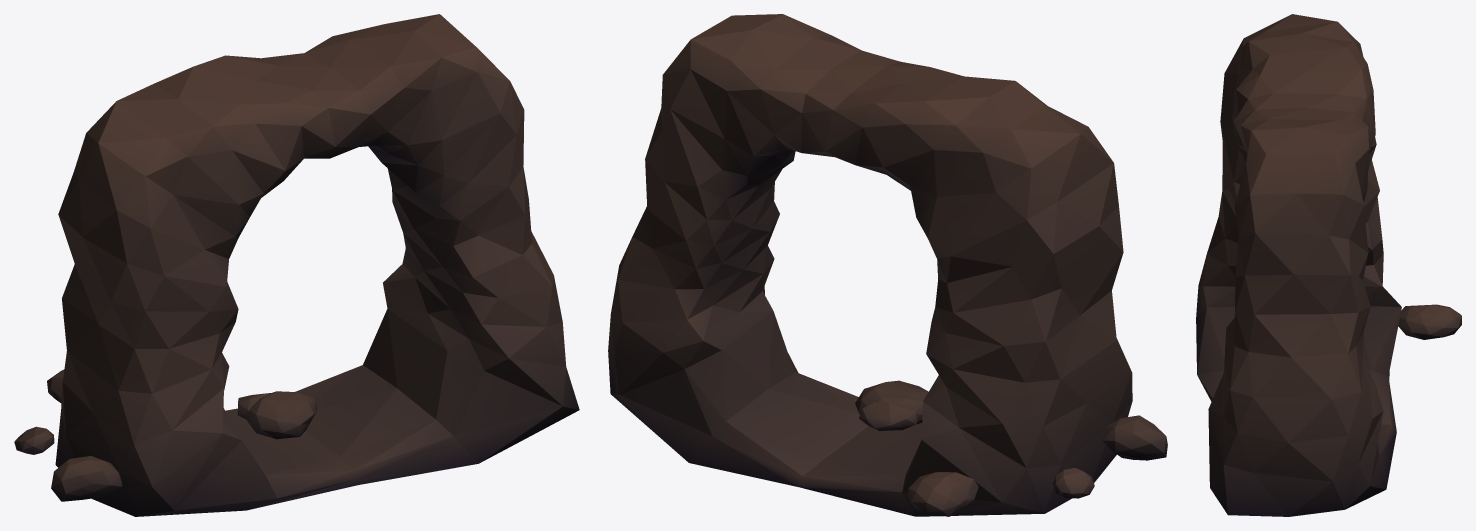
The model's file is arch.lod0.glb.
3 renders of one model, left to right at view 1: azimuth 30°, elevation 25°; view 2: azimuth 150°, elevation 25°; view 3: azimuth 270°, elevation 25°, orthographic. The views are drawn at different scales.
Parts seen in each view (by area): view 1: arch_s1_lod0; view 2: arch_s1_lod0; view 3: arch_s1_lod0.
Boxes of the visible parts, x1,y1,x2,y2 form: arch_s1_lod0: (14,14,579,516); arch_s1_lod0: (608,14,1167,516); arch_s1_lod0: (1196,14,1461,516).
Bounding box in the file's own units: 6.46 × 4.91 × 3.27.
